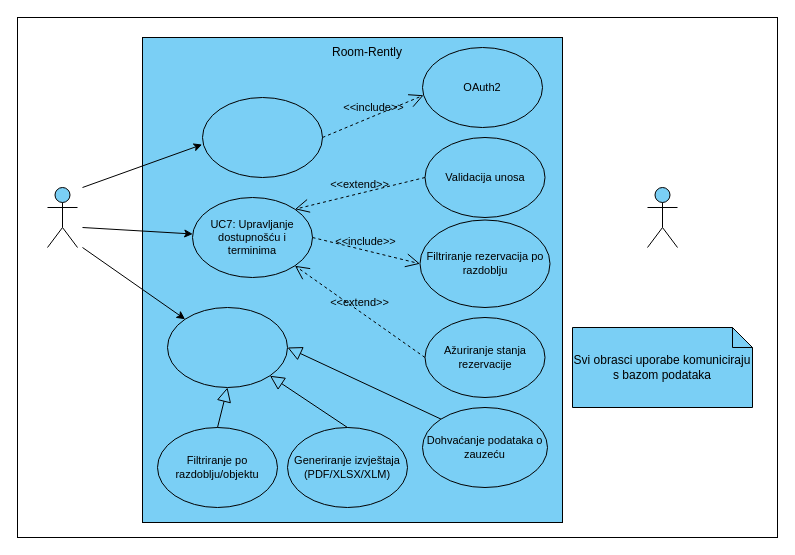
Some shapes in this 795 by 555 pixel diagram are drawn without their labels. The shapes that lost their labels are listed below. From the top down, each one's centre as x and y in pixels, then its label:
At pixel 262 137: "UC1: Prijava i registracija korisnika".
At pixel 62 217: "Vlasnik/Voditelj".
At pixel 662 217: "Baza podataka".
At pixel 227 347: "UC5: Pregled izvještaja i statistike".
